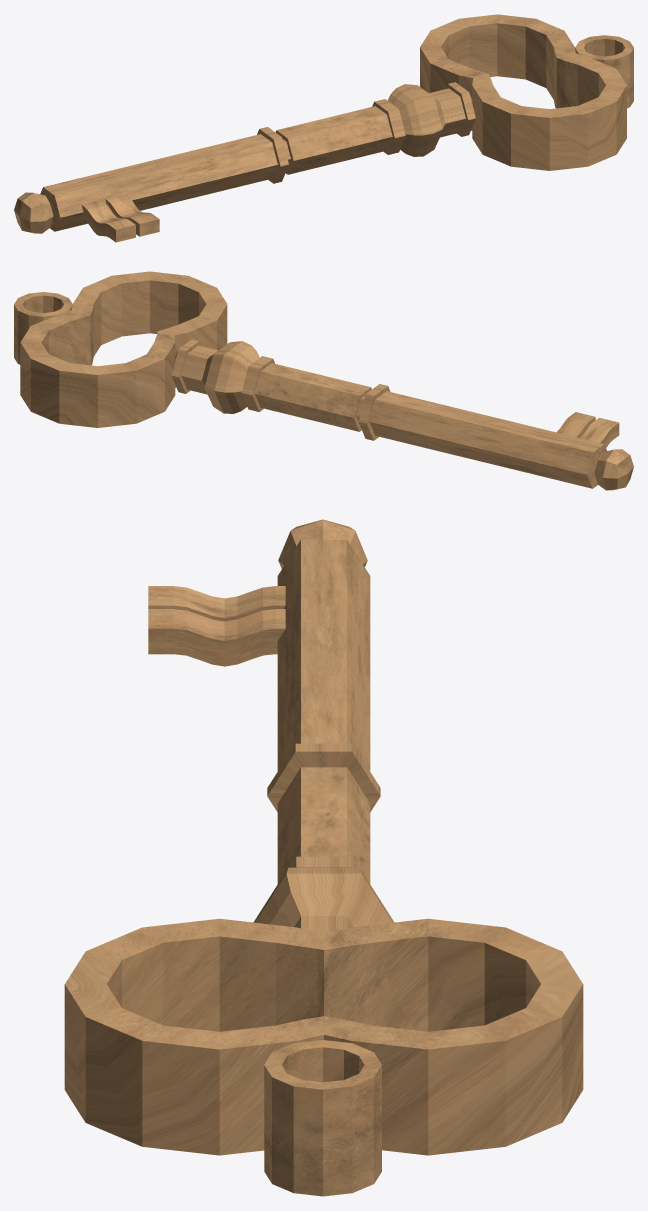
Rendered from chaveESC.fbx.
3 views of the same model, one above another, from view 1: azimuth 30°, elevation 25°; view 2: azimuth 150°, elevation 25°; view 3: azimuth 270°, elevation 25° (orthographic). The views are drawn at different scales.
Parts seen in each view (by area): view 1: Cylinder.003, Cylinder.001, Cylinder.004, Cube.001, Cylinder.002, Cube.002; view 2: Cylinder.003, Cylinder.001, Cylinder.004, Cylinder.002, Cube.001, Cube.002; view 3: Cylinder.003, Cylinder.001, Cylinder.004, Cube.002, Cube.001, Cylinder.002.
Part boxes in pixels (x1=…): Cylinder.003: x1=420, y1=14, x2=626, y2=170; Cylinder.001: x1=40, y1=82, x2=475, y2=231; Cylinder.004: x1=575, y1=35, x2=633, y2=108; Cube.001: x1=81, y1=200, x2=135, y2=242; Cylinder.002: x1=14, y1=192, x2=53, y2=233; Cube.002: x1=105, y1=194, x2=159, y2=236; Cylinder.003: x1=20, y1=271, x2=227, y2=427; Cylinder.001: x1=171, y1=339, x2=606, y2=488; Cylinder.004: x1=14, y1=292, x2=72, y2=364; Cylinder.002: x1=594, y1=449, x2=633, y2=490; Cube.001: x1=580, y1=417, x2=619, y2=447; Cube.002: x1=556, y1=412, x2=595, y2=437; Cylinder.003: x1=64, y1=918, x2=583, y2=1155; Cylinder.001: x1=253, y1=539, x2=394, y2=933; Cylinder.004: x1=264, y1=1040, x2=381, y2=1196; Cube.002: x1=148, y1=609, x2=285, y2=666; Cube.001: x1=148, y1=586, x2=285, y2=621; Cylinder.002: x1=278, y1=519, x2=367, y2=568.
Bounding box in the file's own units: 434 × 39.94 × 160.
